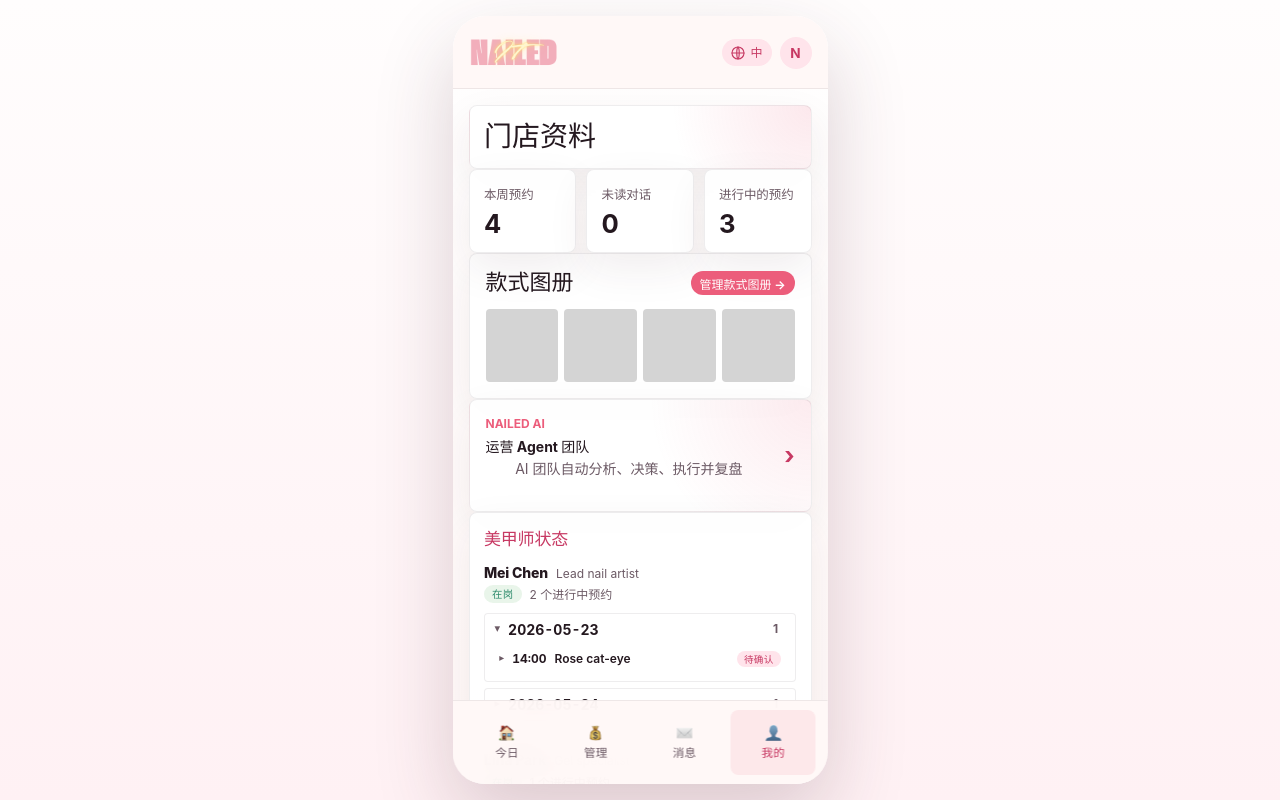
Test: MerchantProfilePage › switches the merchant profile surface language to English
Expected: the heading "门店资料" is shown, [484,119,596,153]
Expected: the text "本周预约" is shown, [484,187,534,202]
Click the button named "切换语言": (747, 53) [722,39,772,66]
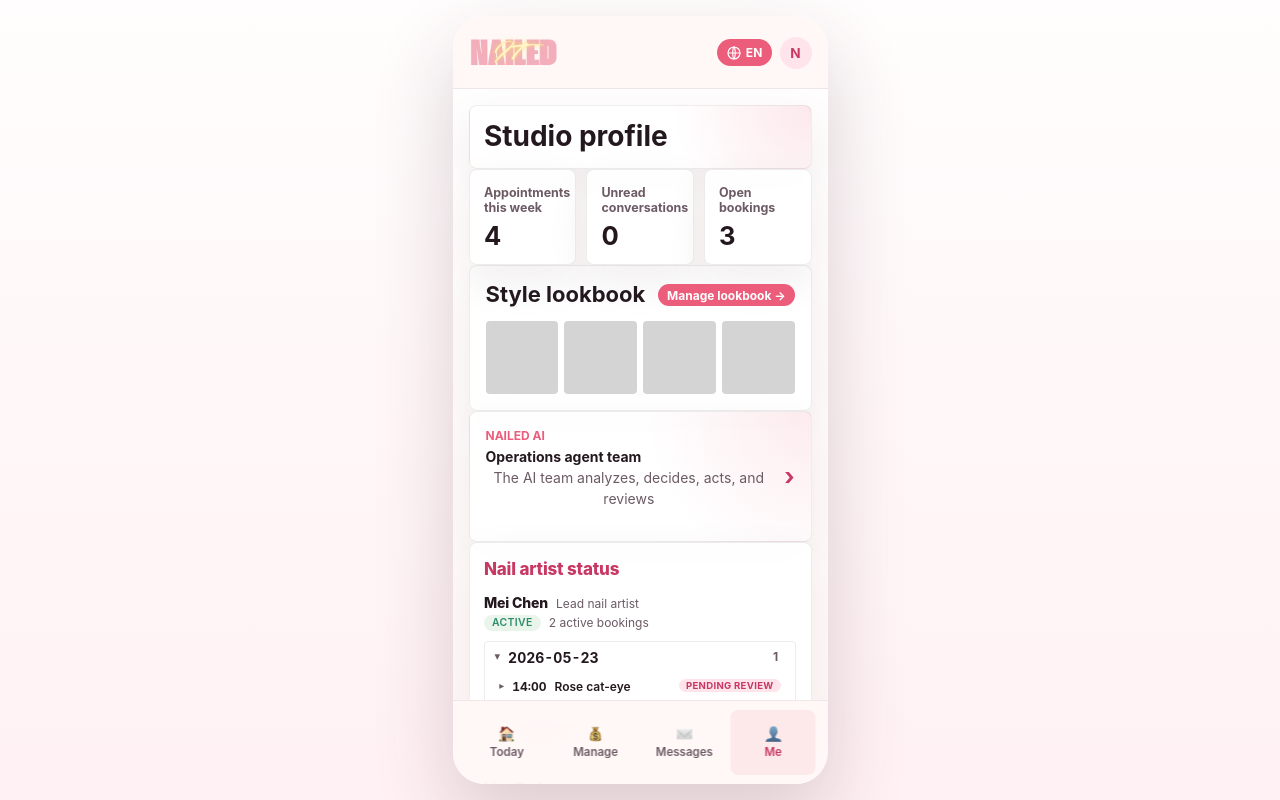
Result: the heading "Studio profile" is shown at [484,119,668,153]
Result: the text "Appointments this week" is shown at [484,185,570,215]
Result: the heading "Style lookbook" is shown at [486,282,645,308]
